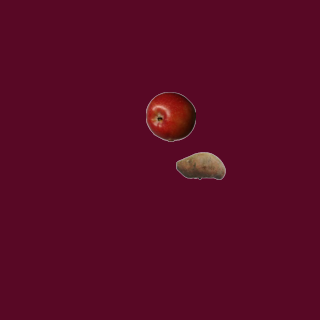Apple Braeburn: (145, 91, 195, 141)
Potato Sweet: (175, 140, 225, 190)
